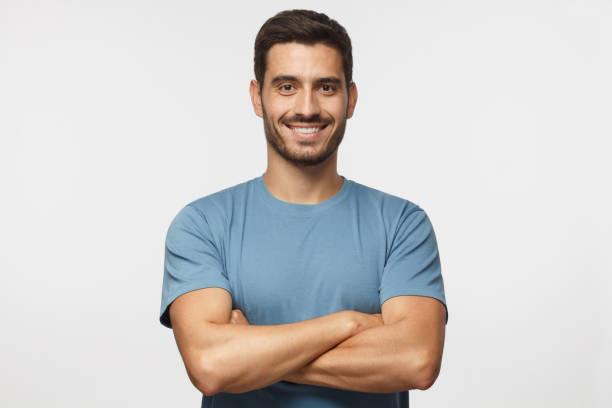bare: (257, 100, 351, 165)
